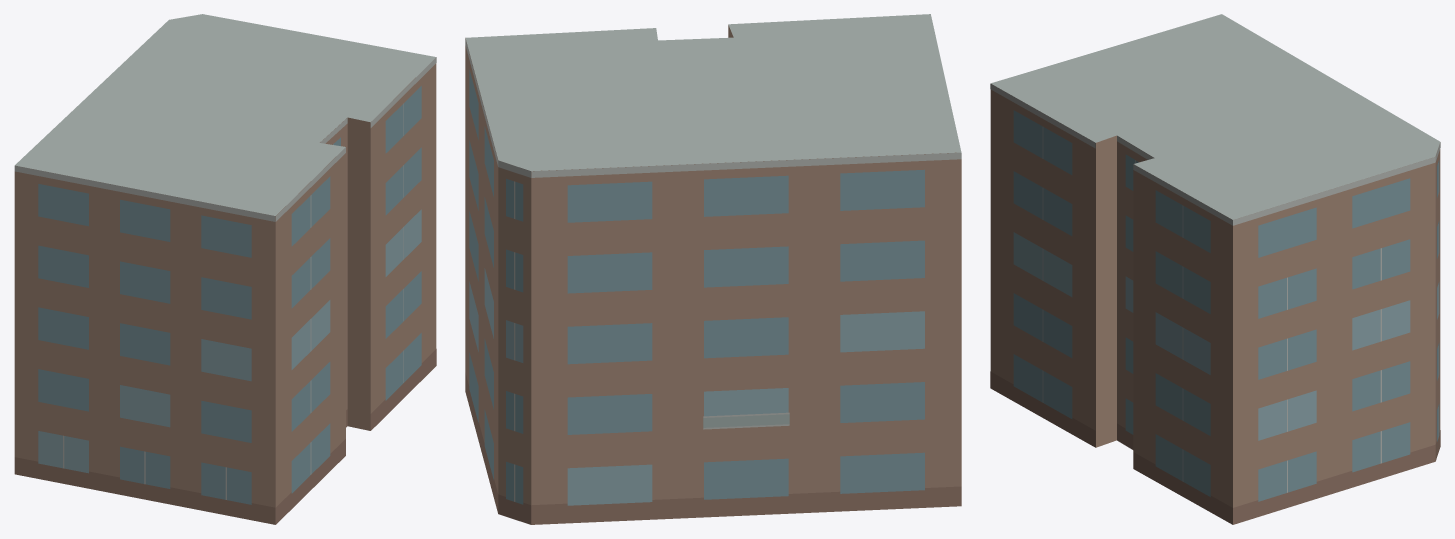
File: survey-upis-32713486.glb
3 views of the same model, side by side, from view 1: azimuth 30°, elevation 25°; view 2: azimuth 150°, elevation 25°; view 3: azimuth 270°, elevation 25° (orthographic). The views are drawn at different scales.
Parts seen in each view (by area): view 1: survey-upis-32713486.tmp; view 2: survey-upis-32713486.tmp; view 3: survey-upis-32713486.tmp.
Part boxes in pixels (x1=…): survey-upis-32713486.tmp: x1=14, y1=14, x2=436, y2=524; survey-upis-32713486.tmp: x1=465, y1=14, x2=961, y2=524; survey-upis-32713486.tmp: x1=990, y1=14, x2=1440, y2=524.
Bounding box in the file's own units: 18.41 × 12.7 × 16.99.
